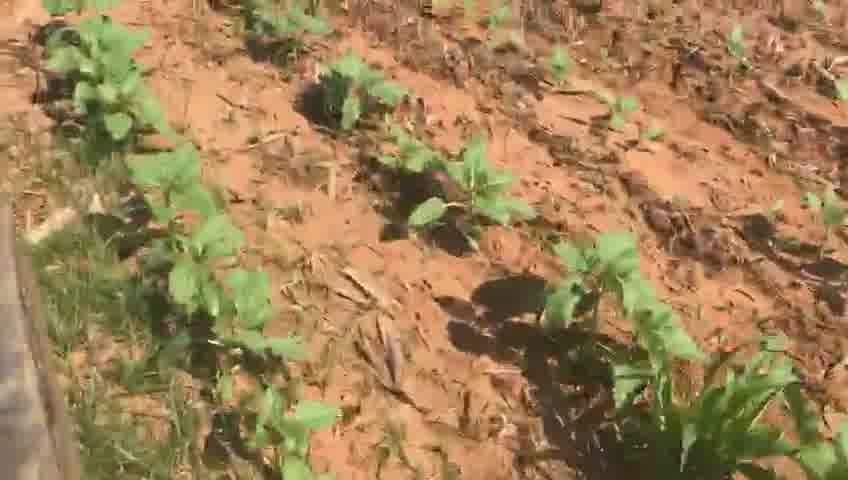sunflower: (388, 130, 533, 233), (535, 227, 670, 329), (600, 272, 703, 395), (160, 265, 295, 357), (135, 215, 251, 319), (107, 141, 224, 232), (236, 389, 341, 475), (60, 79, 173, 150), (40, 15, 148, 85), (304, 51, 409, 123), (253, 7, 335, 56), (794, 178, 837, 254), (627, 105, 672, 158), (542, 40, 573, 88), (606, 89, 640, 126)
